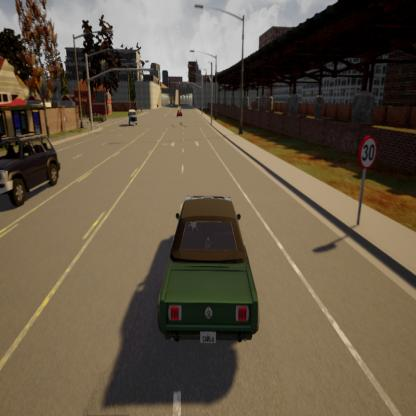Cars: (159, 197, 259, 348), (0, 135, 60, 203), (127, 110, 138, 127), (87, 113, 108, 121), (175, 107, 184, 119)
